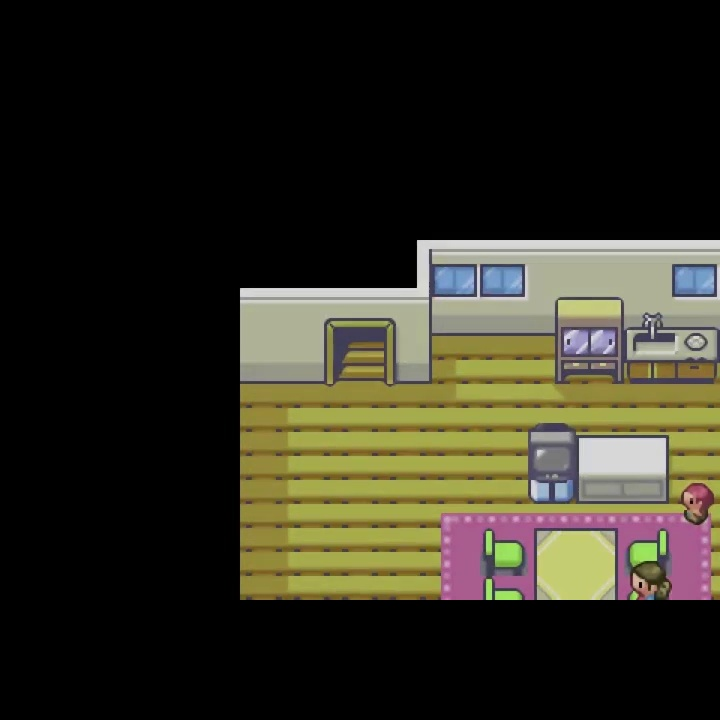npc: (627, 558, 674, 600), (679, 478, 715, 527)
